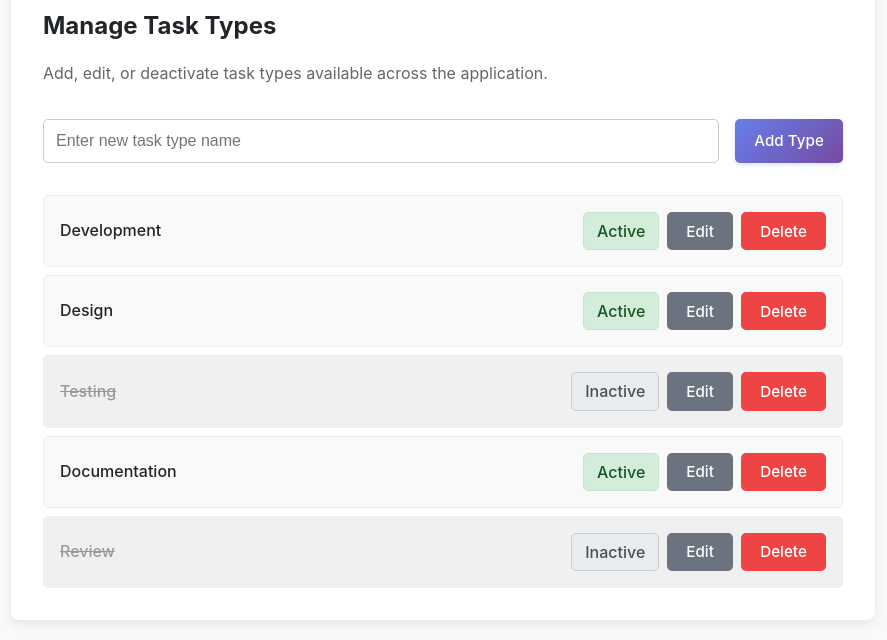
Test: TaskTypeSettings Component › Task Type Editing › enters edit mode when edit button is clicked
This screenshot has width=887, height=640.
Expected: the text "Development" is shown, [60,218,161,244]
# Find edit button by text for the Development item
Step 1. Click the button "Edit" in the row of "Development" → (700, 231), box [667,212,733,250]
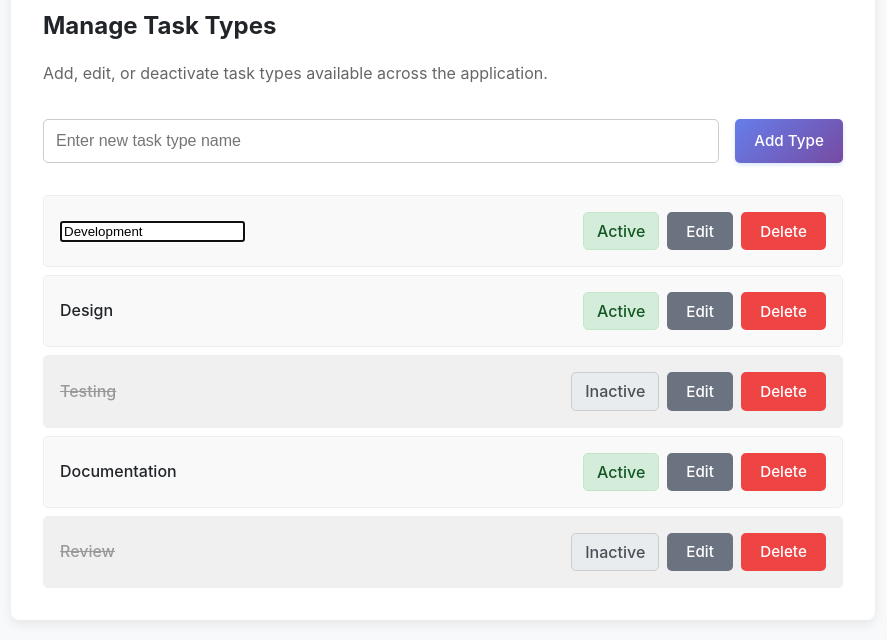
Result: the field showing "Development" holds "Development" at [60,221,245,242]
